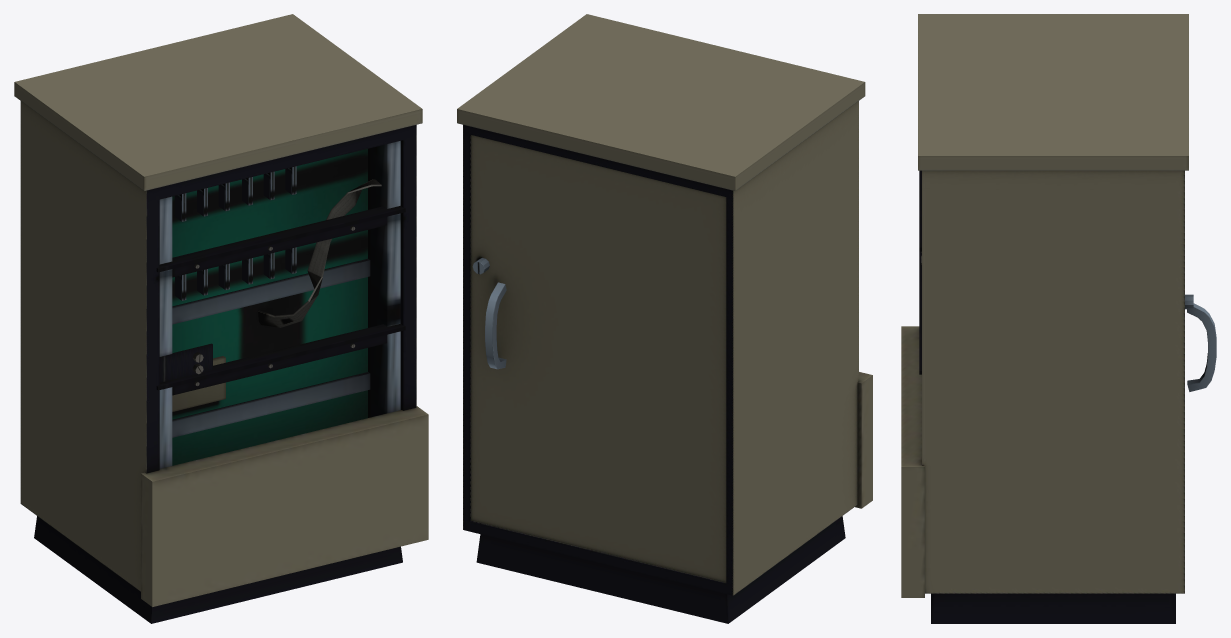
3 renders of one model, left to right at view 1: azimuth 30°, elevation 25°; view 2: azimuth 150°, elevation 25°; view 3: azimuth 270°, elevation 25°, orthographic. The views are drawn at different scales.
Visible parts, largest first — view 1: tu3; view 2: tu3; view 3: tu3.
Part boxes in pixels (box(x1,y1,x2,y2)): tu3: box(14, 14, 428, 623); tu3: box(457, 14, 872, 623); tu3: box(901, 14, 1216, 623).
Size of the model in its own units: 1.26 by 1.96 by 1.18.
1 material, 1 textured.
